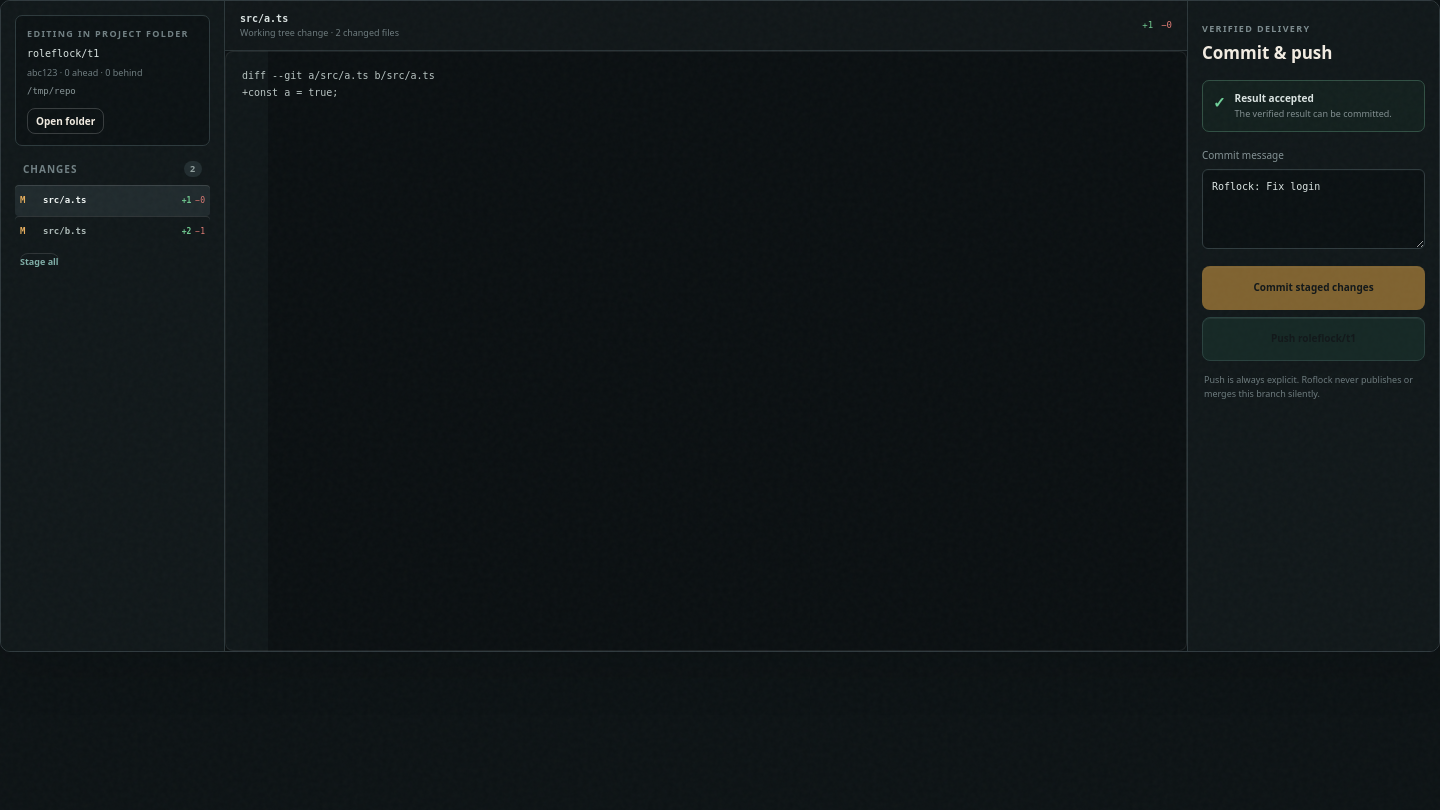
Test: WorkspaceChanges › loads the diff for the file and stage selected in the changes list
The image size is (1440, 810).
Expected: the text "+const a = true;" is shown, left=242, top=70, right=435, bottom=98
Click the button "M src/b.ts +2 −1".
click(112, 232)  # box left=15, top=216, right=210, bottom=247
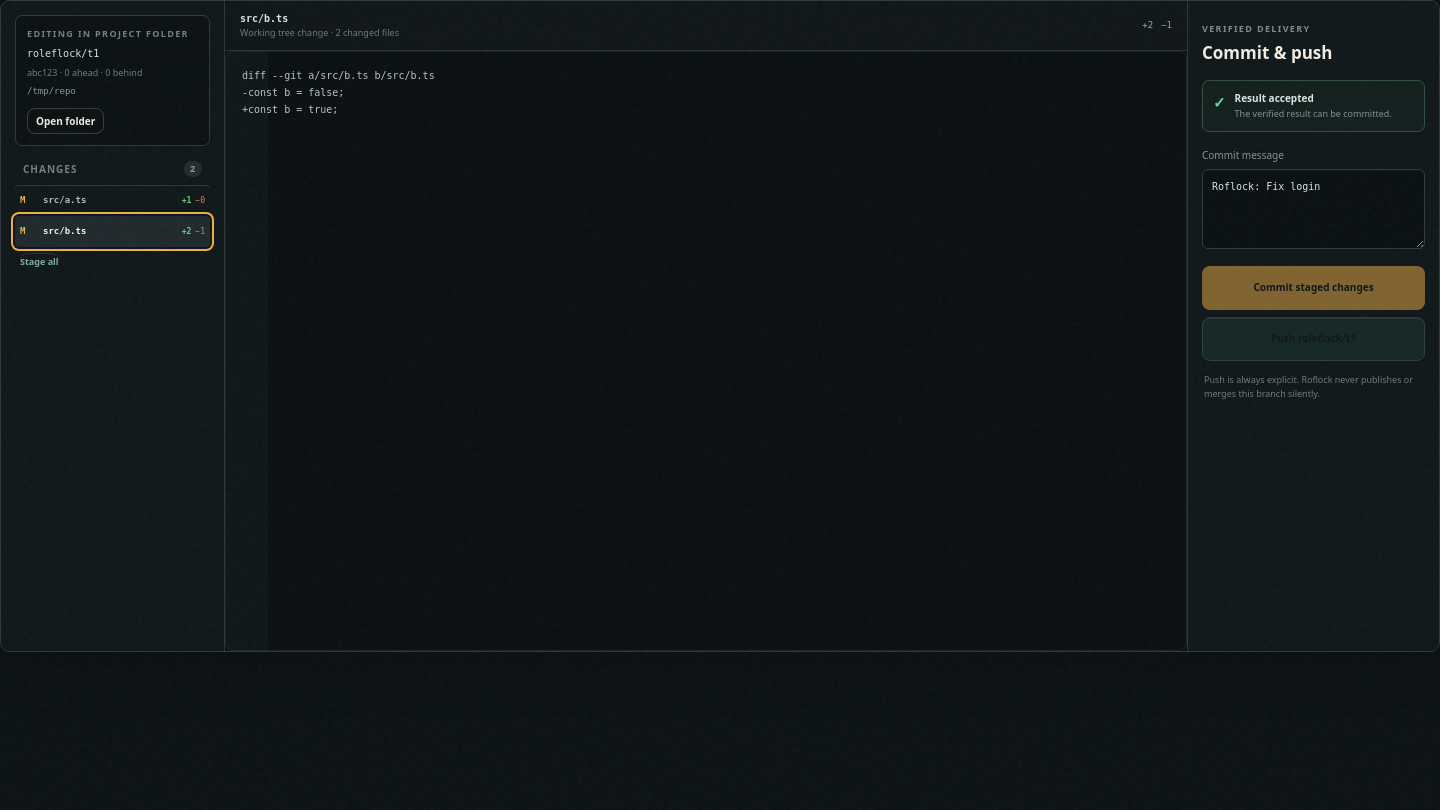
Now the text "+const b = true;" is shown, box left=242, top=70, right=435, bottom=115
Now the text "+const a = true;" is gone
Now the text "+2" in the row of "Working tree change · 2 changed files" is shown, box left=1142, top=18, right=1153, bottom=32
